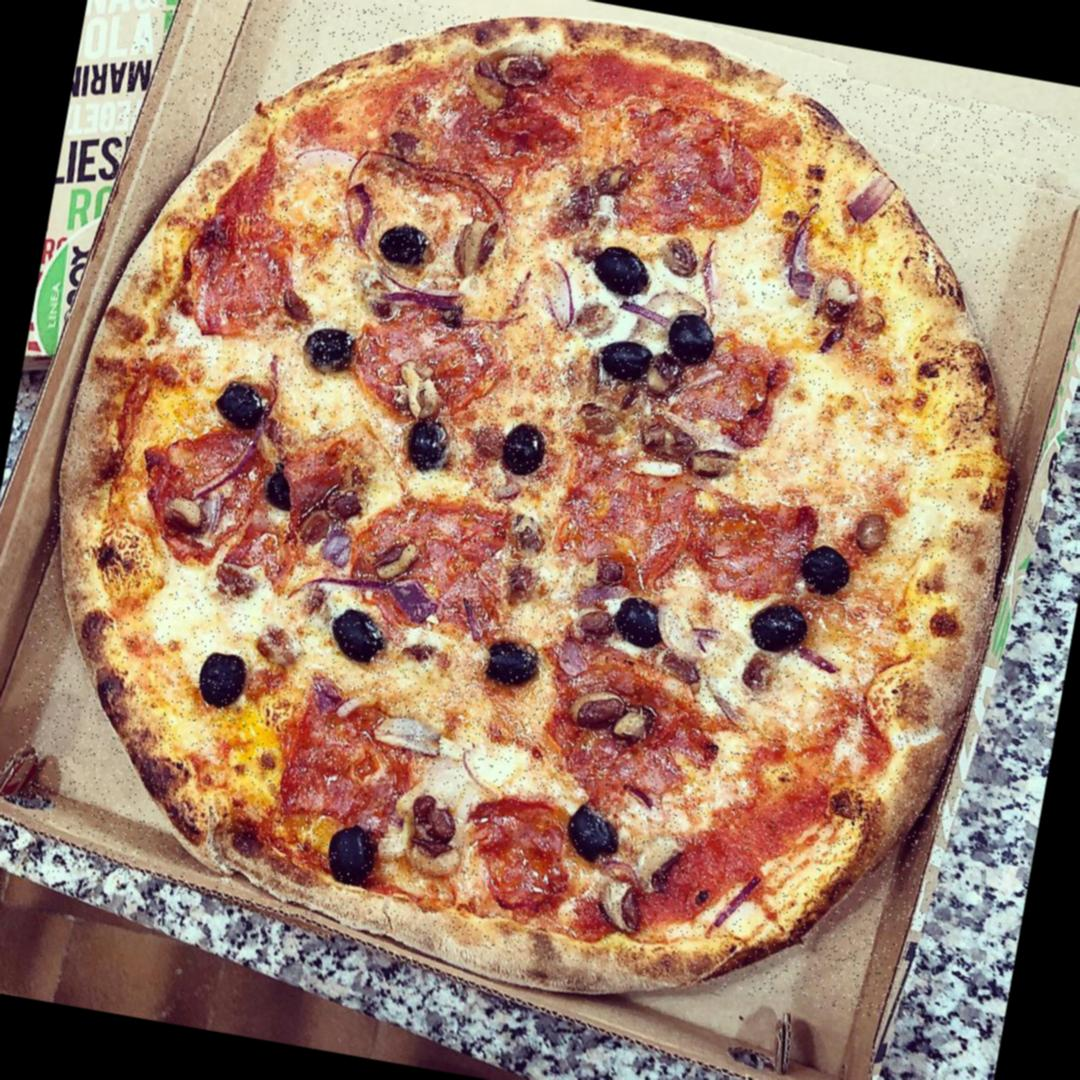Ham: (354, 484, 526, 632), (548, 659, 697, 804), (175, 173, 298, 340), (280, 693, 420, 835), (620, 123, 772, 244), (567, 449, 684, 590), (360, 296, 502, 409), (144, 424, 261, 558), (664, 316, 784, 440), (459, 792, 580, 904), (691, 497, 808, 598)
Olives: (320, 818, 390, 890), (562, 800, 628, 868), (495, 415, 557, 485), (744, 596, 812, 656), (326, 604, 389, 668), (479, 633, 547, 689), (798, 540, 858, 602), (376, 217, 439, 276), (589, 241, 650, 301), (302, 322, 364, 376), (198, 645, 254, 704), (596, 334, 659, 384), (614, 592, 668, 646), (663, 313, 715, 364), (216, 380, 271, 424)
Onion: (355, 142, 521, 230), (188, 377, 278, 501), (332, 148, 388, 264), (777, 194, 826, 308), (282, 560, 382, 609), (534, 256, 588, 343), (690, 242, 730, 322), (844, 172, 896, 230), (614, 298, 672, 333)
Pizza: (0, 0, 1080, 1026)
